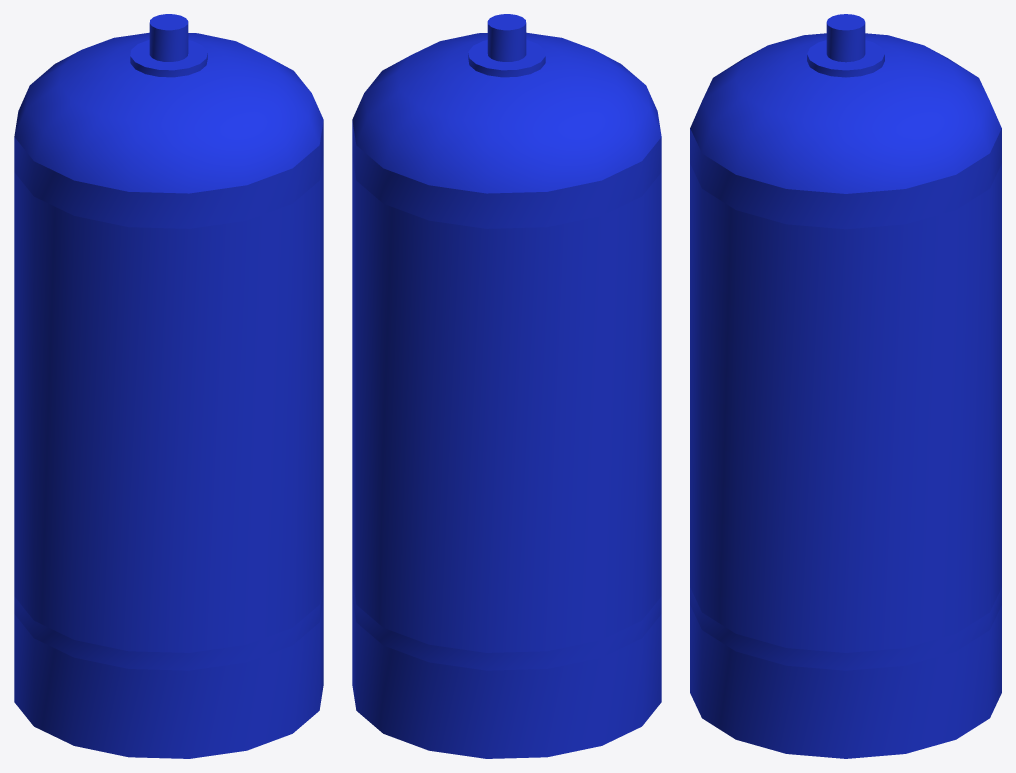
The model's file is can-03.glb.
3 views of the same model, side by side, from view 1: azimuth 30°, elevation 25°; view 2: azimuth 150°, elevation 25°; view 3: azimuth 270°, elevation 25° (orthographic).
Visible parts, largest first — view 1: label, cappellotto, fondello, corpo-tagliato, valvola, guarnizione; view 2: label, cappellotto, fondello, corpo-tagliato, valvola, guarnizione; view 3: label, cappellotto, fondello, corpo-tagliato, valvola, guarnizione.
Part boxes in pixels (x1,y1,x2,y2): label: (14,156,323,652); cappellotto: (14,32,323,193); fondello: (14,598,323,758); corpo-tagliato: (14,121,323,670); valvola: (149,14,188,61); guarnizione: (130,39,207,77); label: (352,156,661,652); cappellotto: (352,32,661,193); fondello: (352,598,661,758); corpo-tagliato: (352,121,661,670); valvola: (487,14,526,61); guarnizione: (468,39,545,77); label: (690,163,1001,652); cappellotto: (690,33,1001,193); fondello: (690,605,1001,758); corpo-tagliato: (690,128,1001,670); valvola: (826,14,865,62); guarnizione: (807,40,884,77).
Bounding box in the file's own units: 0.8 × 1.9 × 0.8.
